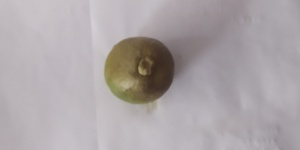BAD: (102, 36, 175, 105)
